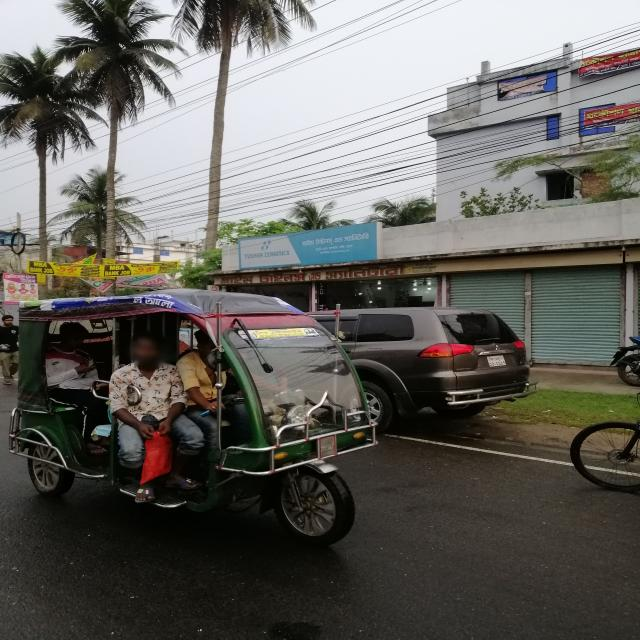Easybike: (10, 291, 383, 544)
